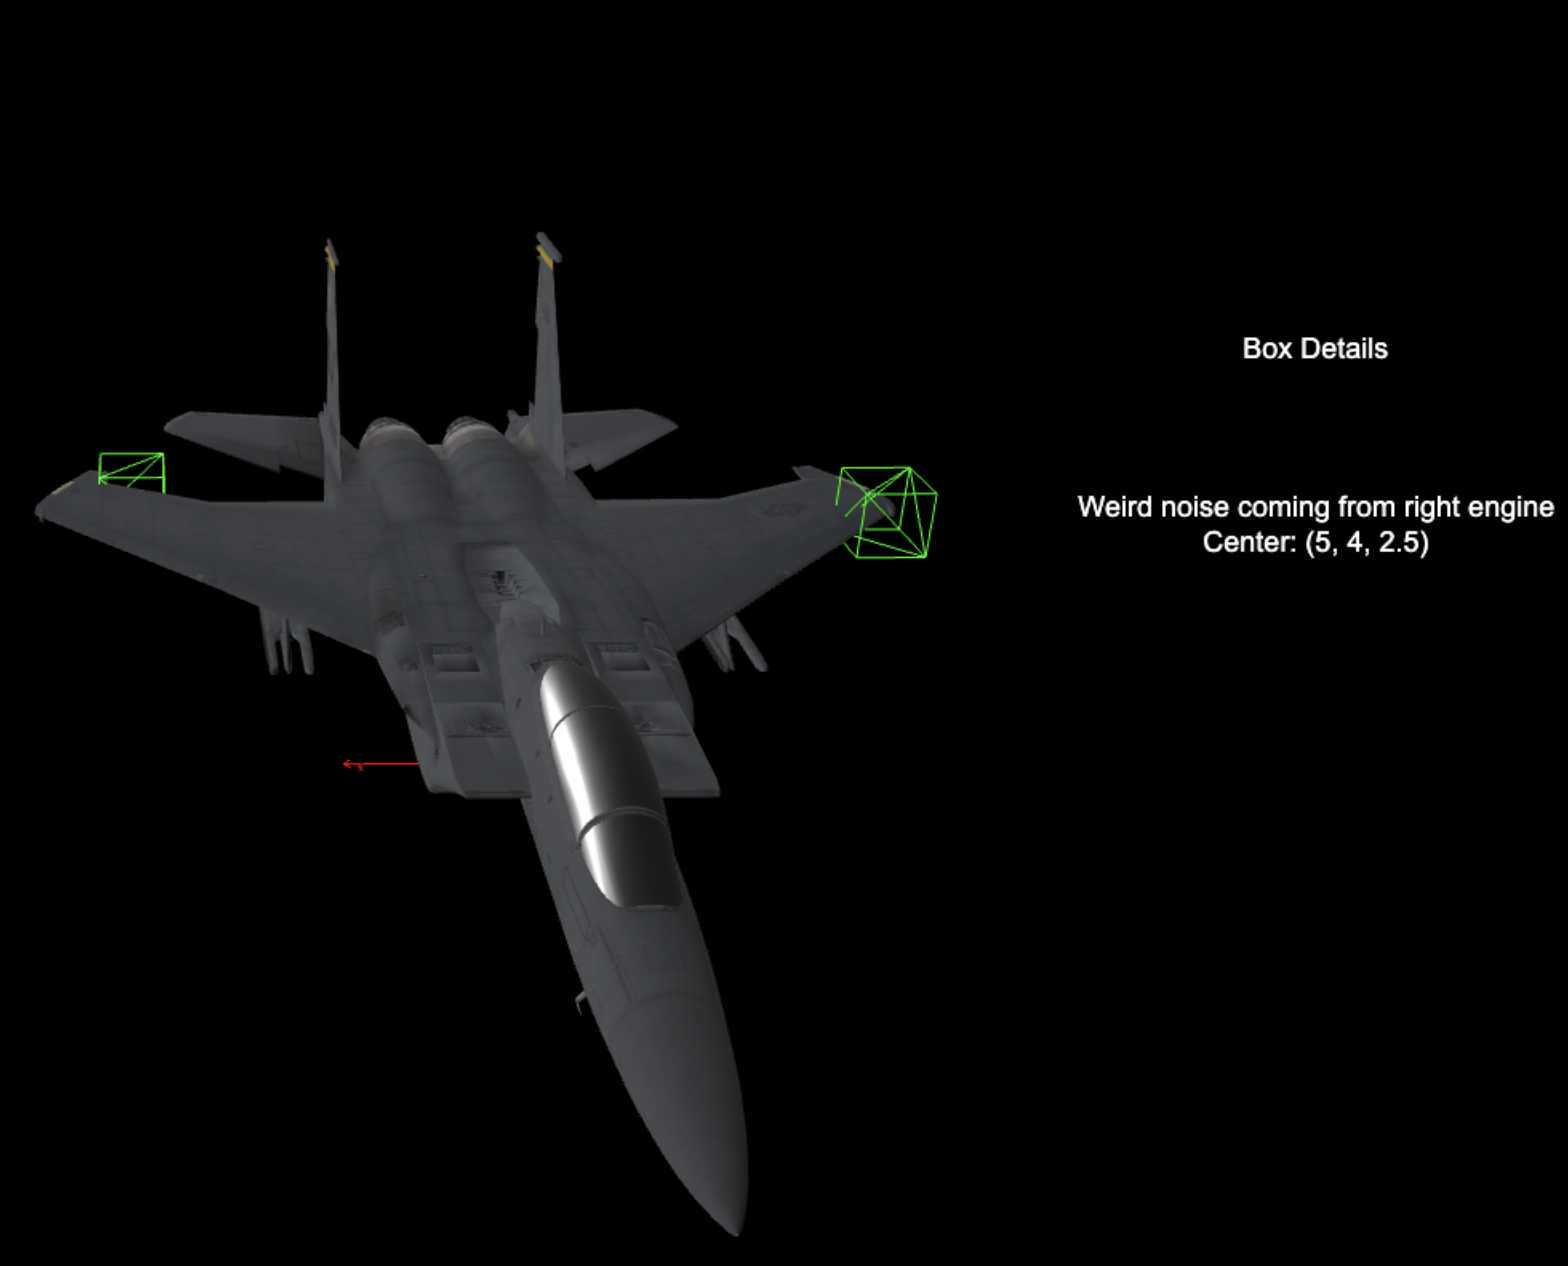

Layout of this report page (visuals, bound fields, positions):
{"tool":"powerbi","page":{"name":"Page 1","canvas":[1280,720],"ordinal":0},"visuals":[{"type":"htmlContent443BE3AD55E043BF878BED274D3A6855","fields":{"content":["Dataset (2).iFrame Content"]},"box":[9.4,0,1270.6,719.3],"z":0}]}

Visuals, with their boxes on the page's 1280x720 design canvas (x1, y1, x2, y2). These are canvas units, not pixel positions in the 1568x1266 screenshot, which may show the page scaled, cropped or inside an application window:
htmlContent443BE3AD55E043BF878BED274D3A6855 - Dataset (2).iFrame Content: <box>9,0,1280,719</box>
